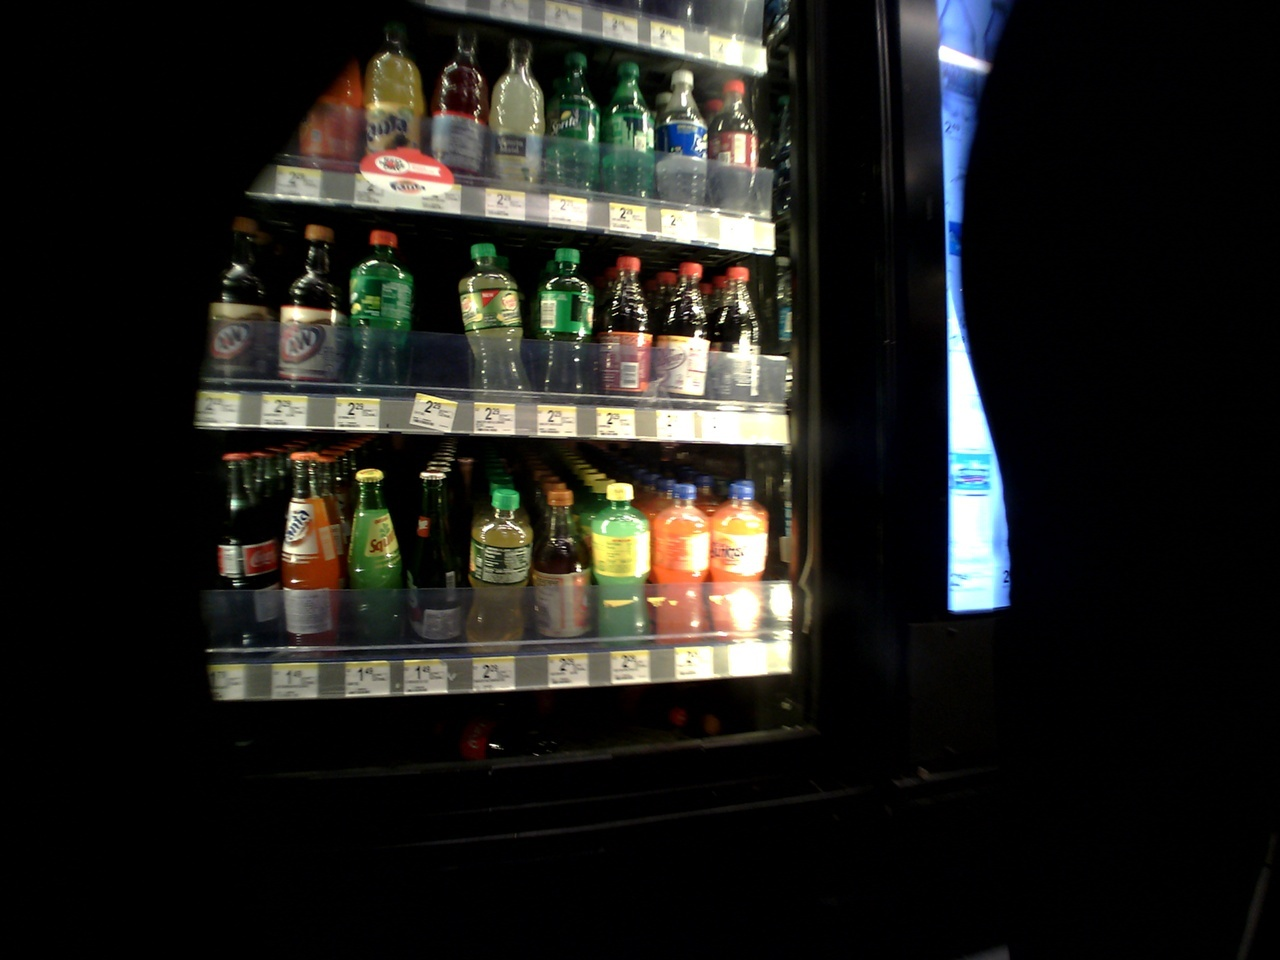shelf: (190, 0, 786, 252), (189, 435, 799, 674), (187, 204, 787, 438)
